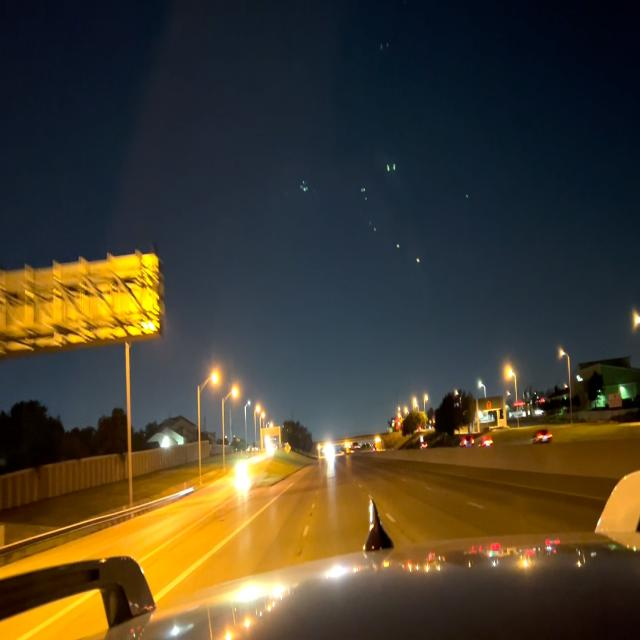back-of-sign: (1, 251, 164, 342)
